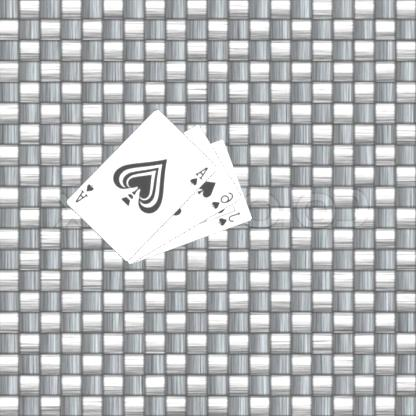6S: (211, 190, 236, 210)
AS: (74, 181, 97, 204), (189, 164, 211, 187)
JS: (218, 210, 244, 227)
